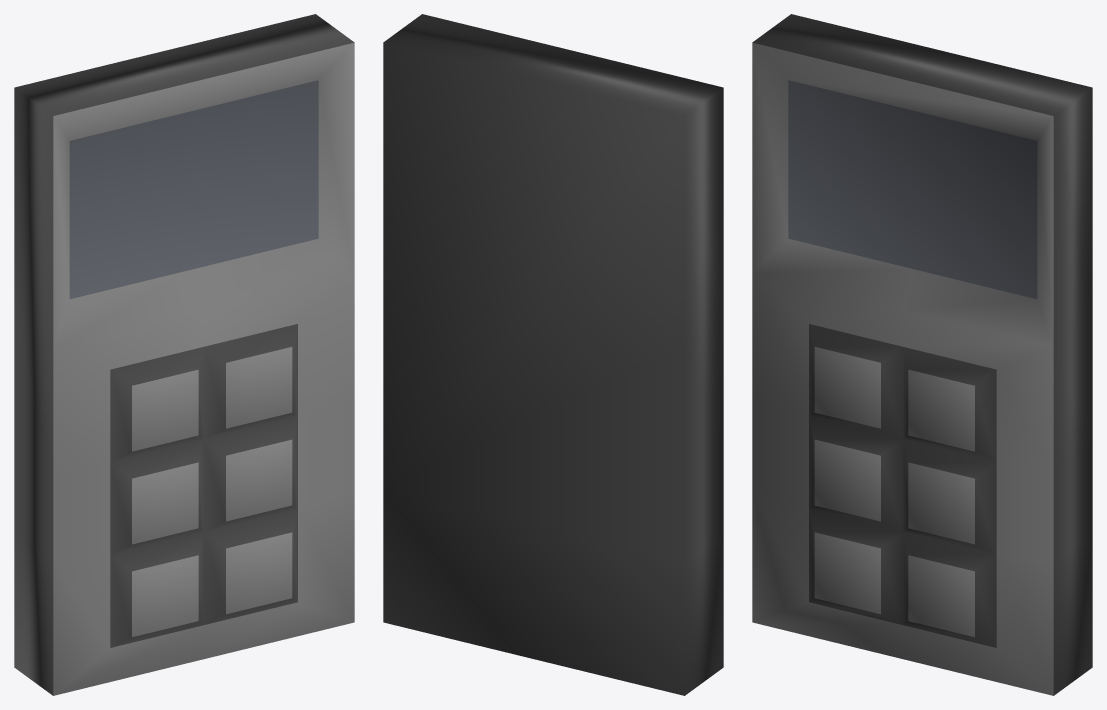
The model's file is KeyPad.fbx.
The picture shows the model from 3 angles, left to right: view 1: azimuth 30°, elevation 25°; view 2: azimuth 150°, elevation 25°; view 3: azimuth 330°, elevation 25°; orthographic projection.
Parts seen in each view (by area): view 1: Cube; view 2: Cube; view 3: Cube.
Part boxes in pixels (bbox=[...]): Cube: bbox=[14, 14, 354, 695]; Cube: bbox=[383, 14, 723, 695]; Cube: bbox=[752, 14, 1092, 695].
Size of the model in its own units: 106 by 194 by 28.7.
